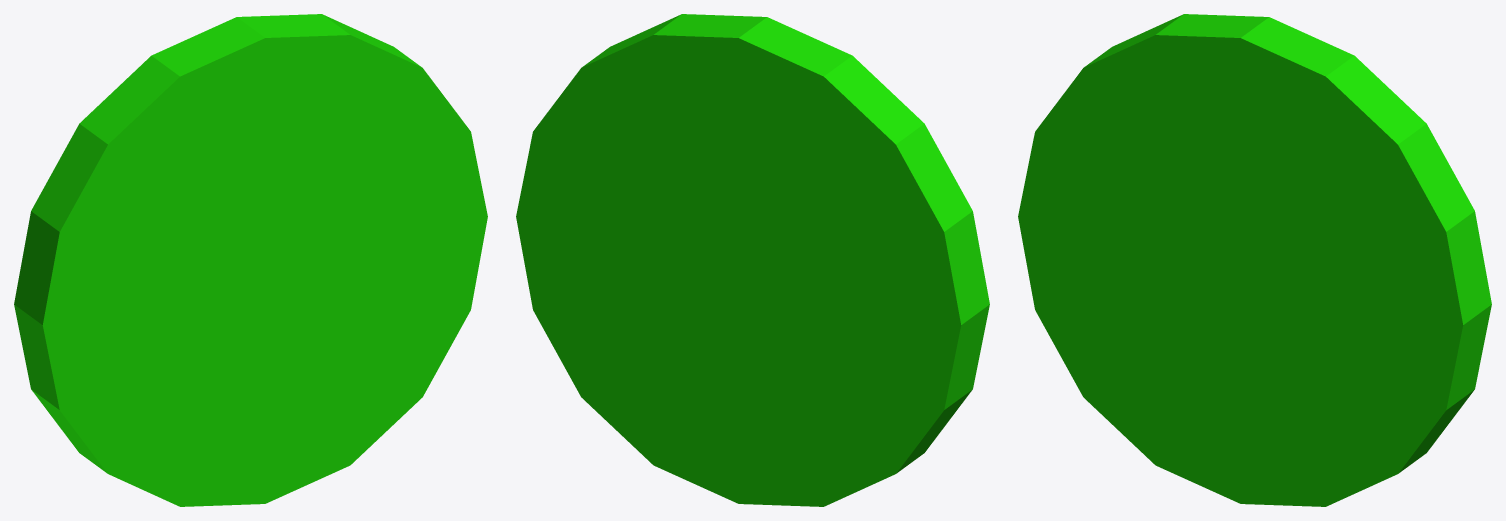
The model's file is SM_MicStove_01_Wheel_01_Collider.fbx.
3 renders of one model, left to right at view 1: azimuth 30°, elevation 25°; view 2: azimuth 150°, elevation 25°; view 3: azimuth 330°, elevation 25°, orthographic.
Visible parts, largest first — view 1: SM_MicStove_01_Wheel_01_Collider; view 2: SM_MicStove_01_Wheel_01_Collider; view 3: SM_MicStove_01_Wheel_01_Collider.
Part boxes in pixels (x1,y1,x2,y2): SM_MicStove_01_Wheel_01_Collider: (14, 14, 487, 506); SM_MicStove_01_Wheel_01_Collider: (516, 14, 989, 506); SM_MicStove_01_Wheel_01_Collider: (1018, 14, 1491, 506).
Size of the model in its own units: 28.15 by 28.15 by 3.15.
